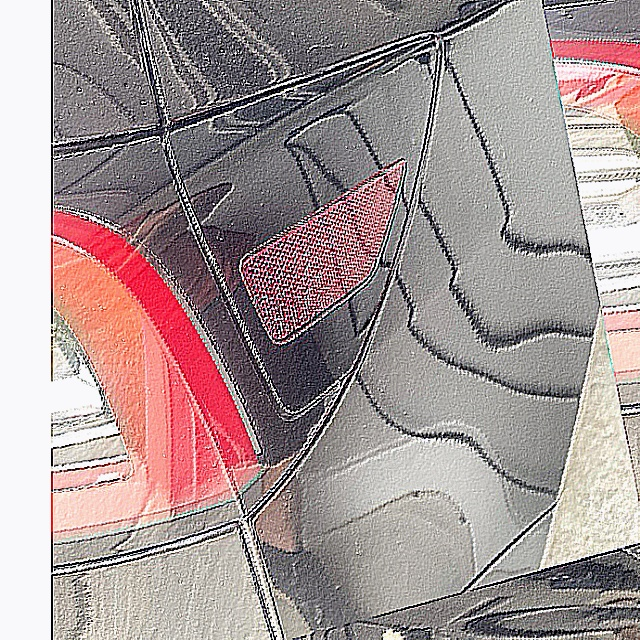reflector: (227, 158, 434, 352)
